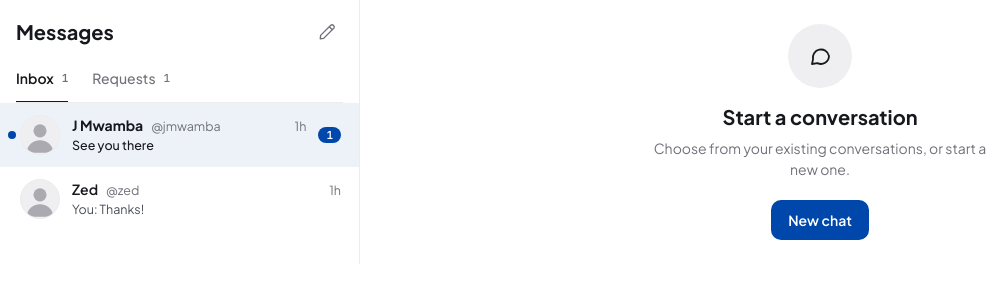
Test case: messages list › splits Inbox and Requests, and shows who sent the last line
Check: the number of links is 2, box [0,103,359,167]; [0,167,359,231]
Check: the text "You: Thanks!" is shown, box [72,201,144,217]
Click the tab "Requests 1".
click(131, 80)  # box [92,56,170,103]
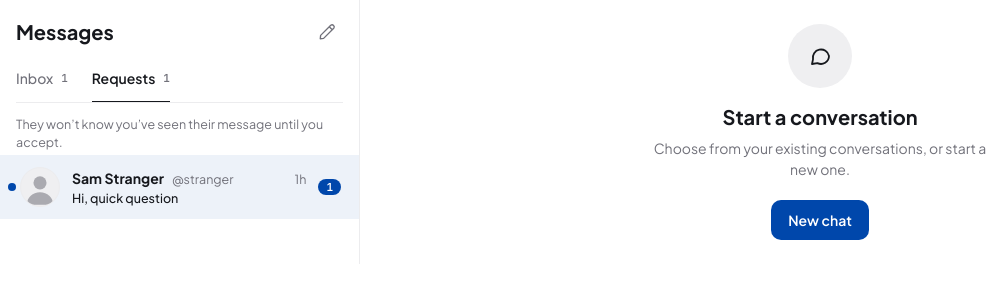
Check: the text "Hi, quick question" is shown, box [72,190,178,206]
Check: the text "They won’t know you’ve seen their message until you accept." is shown, box [0,103,359,155]
